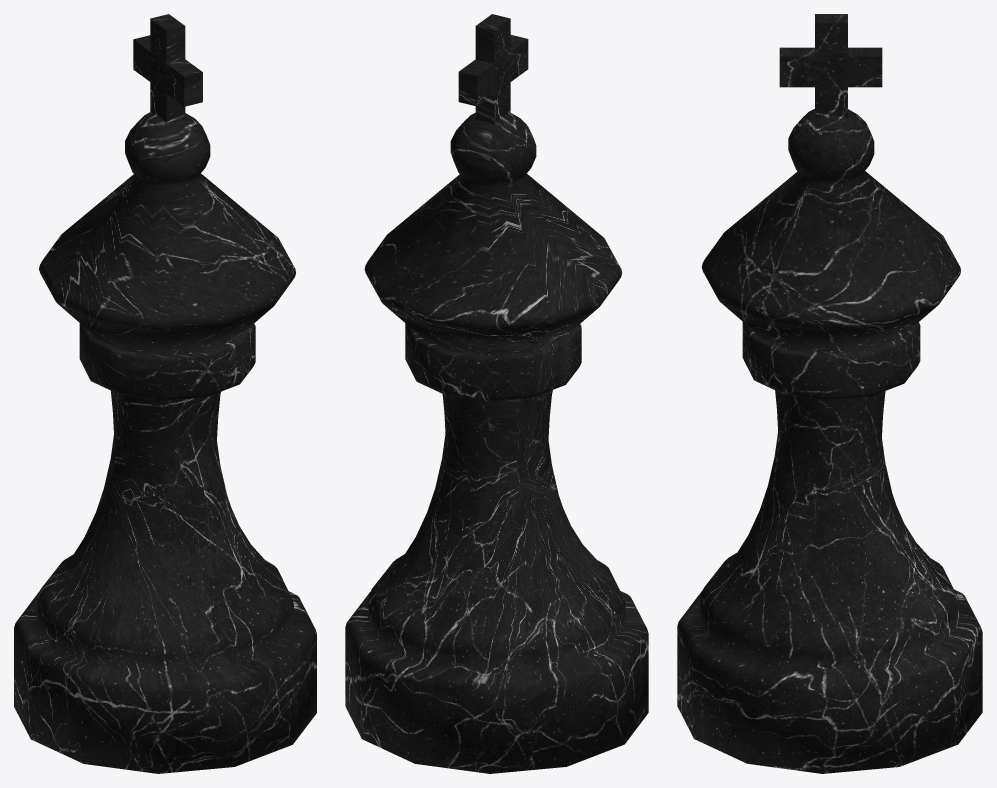
File: ReyNegro.glb
3 renders of one model, left to right at view 1: azimuth 30°, elevation 25°; view 2: azimuth 150°, elevation 25°; view 3: azimuth 270°, elevation 25°, orthographic.
Visible parts, largest first — view 1: Rey; view 2: Rey; view 3: Rey.
Boxes of the visible parts, bbox=[...] form: Rey: bbox=[14, 14, 316, 773]; Rey: bbox=[345, 14, 648, 773]; Rey: bbox=[677, 14, 982, 773].
Size of the model in its own units: 0.7033 by 1.76 by 0.7033.
1 material, 1 textured.
